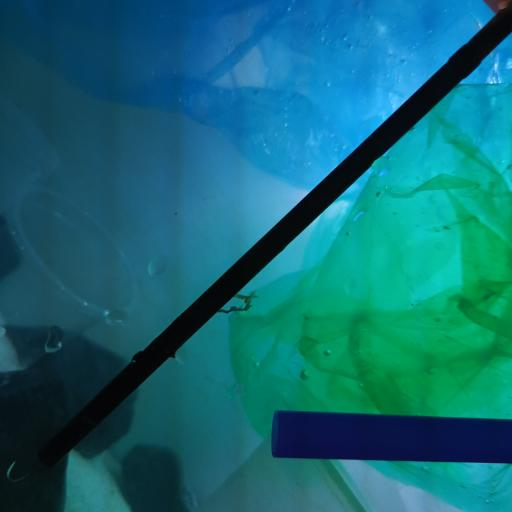plastic_bag: (233, 88, 512, 435), (5, 2, 500, 192)
plastic_cup: (0, 186, 139, 383), (192, 430, 366, 512)
plastic_straw: (37, 1, 512, 471), (272, 411, 512, 463)
